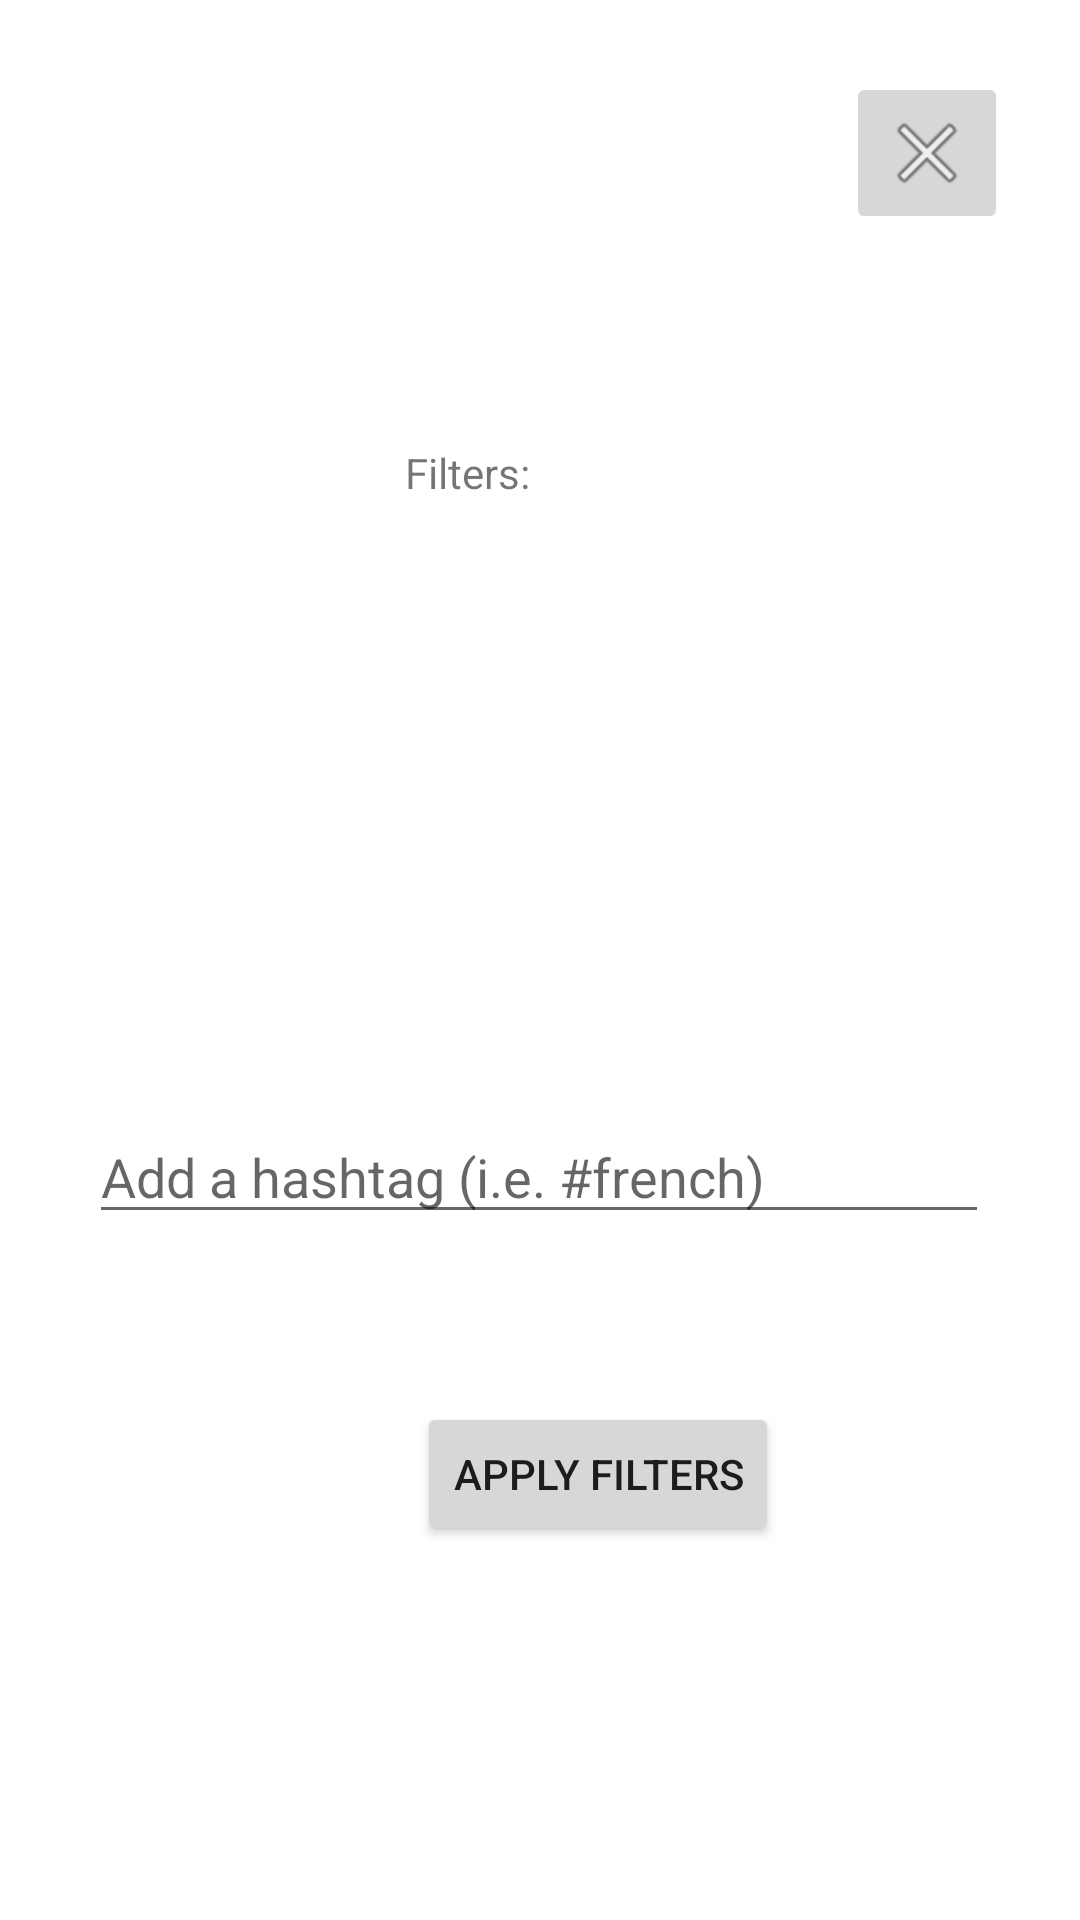

Where to tap for icons on this 1080px x 1920px app screen, as [x,y]:
close clear cancel: [927,153]
